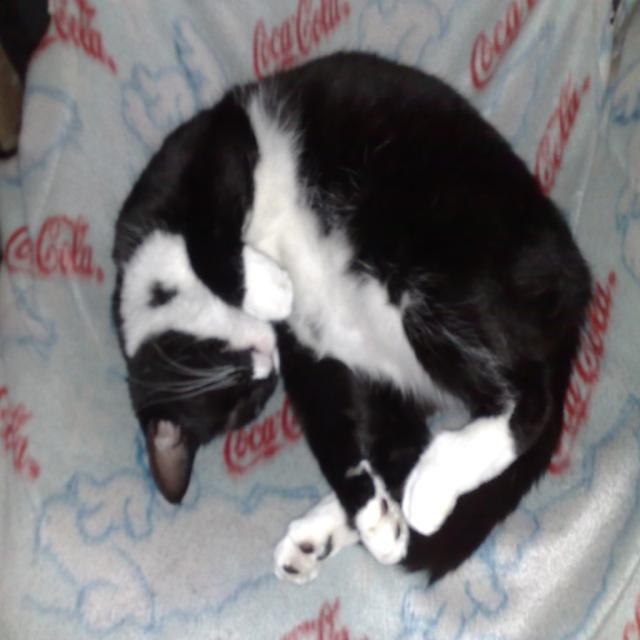Cat: (105, 42, 595, 586)
